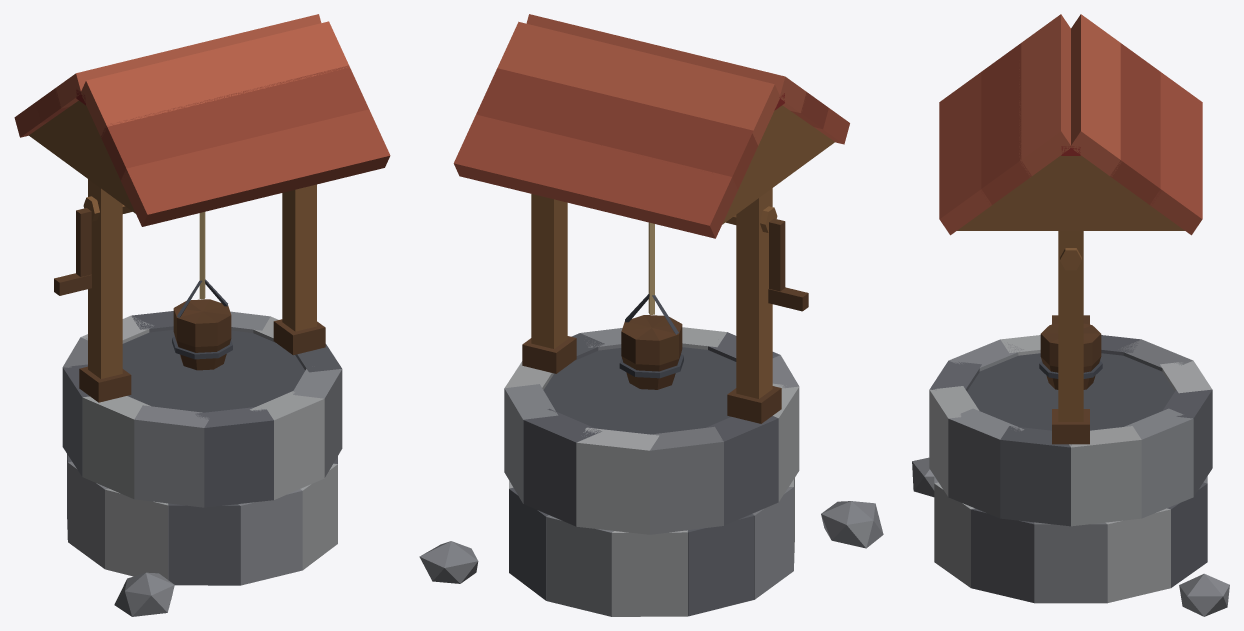
Rendered from Decor_Beanstalk_Well.fbx.
The picture shows the model from 3 angles, left to right: view 1: azimuth 30°, elevation 25°; view 2: azimuth 150°, elevation 25°; view 3: azimuth 270°, elevation 25°; orthographic projection. The views are drawn at different scales.
Parts seen in each view (by area): view 1: Well_Body; view 2: Well_Body; view 3: Well_Body.
Boxes of the visible parts, x1=… form: Well_Body: x1=14, y1=14, x2=390, y2=616; Well_Body: x1=419, y1=14, x2=883, y2=616; Well_Body: x1=912, y1=14, x2=1229, y2=616.
Size of the model in its own units: 9 by 14.16 by 8.6.
